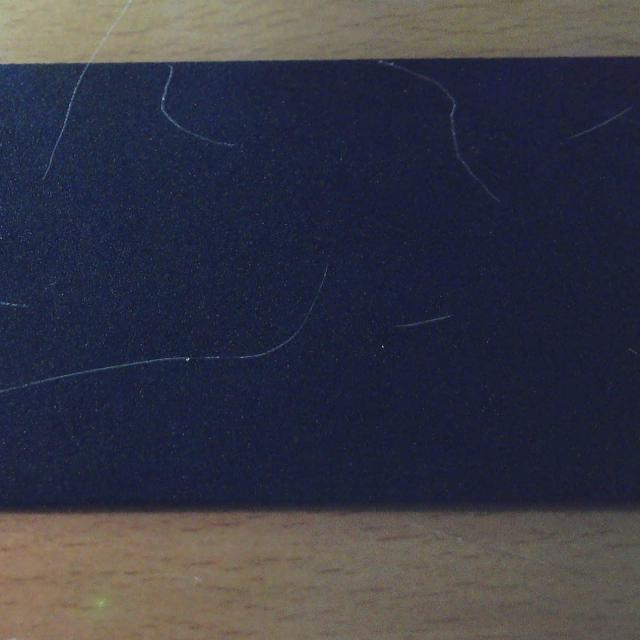defect: (0, 262, 329, 398), (373, 59, 505, 208), (151, 63, 240, 154), (36, 64, 96, 182), (568, 101, 632, 146), (392, 311, 456, 334), (0, 296, 36, 316), (621, 340, 640, 364)
